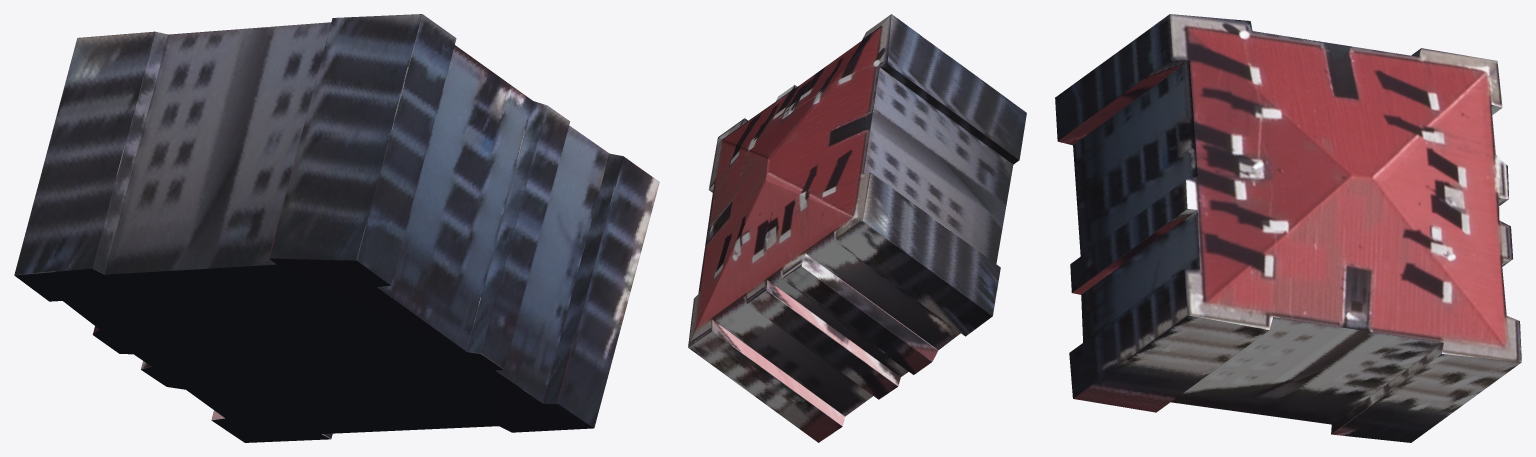
3 renders of one model, left to right at view 1: azimuth 30°, elevation 25°; view 2: azimuth 150°, elevation 25°; view 3: azimuth 270°, elevation 25°, orthographic. The views are drawn at different scales.
Size of the model in its own units: 38.78 by 36.91 by 35.24.
1 material, 1 textured.
